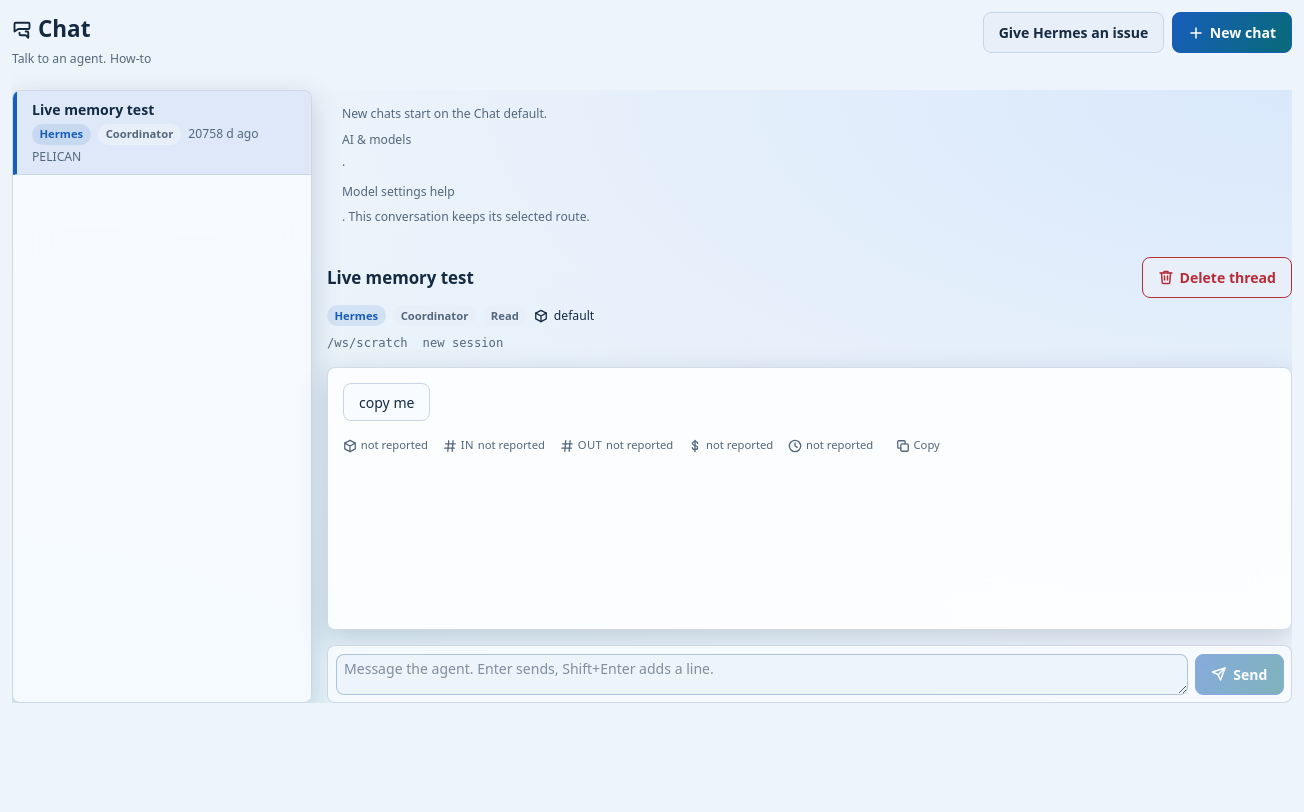
Test: Chat view › copies the message text when the clipboard exists
Click the button with aria-label "Copy message": (918,446) [888,425,947,466]
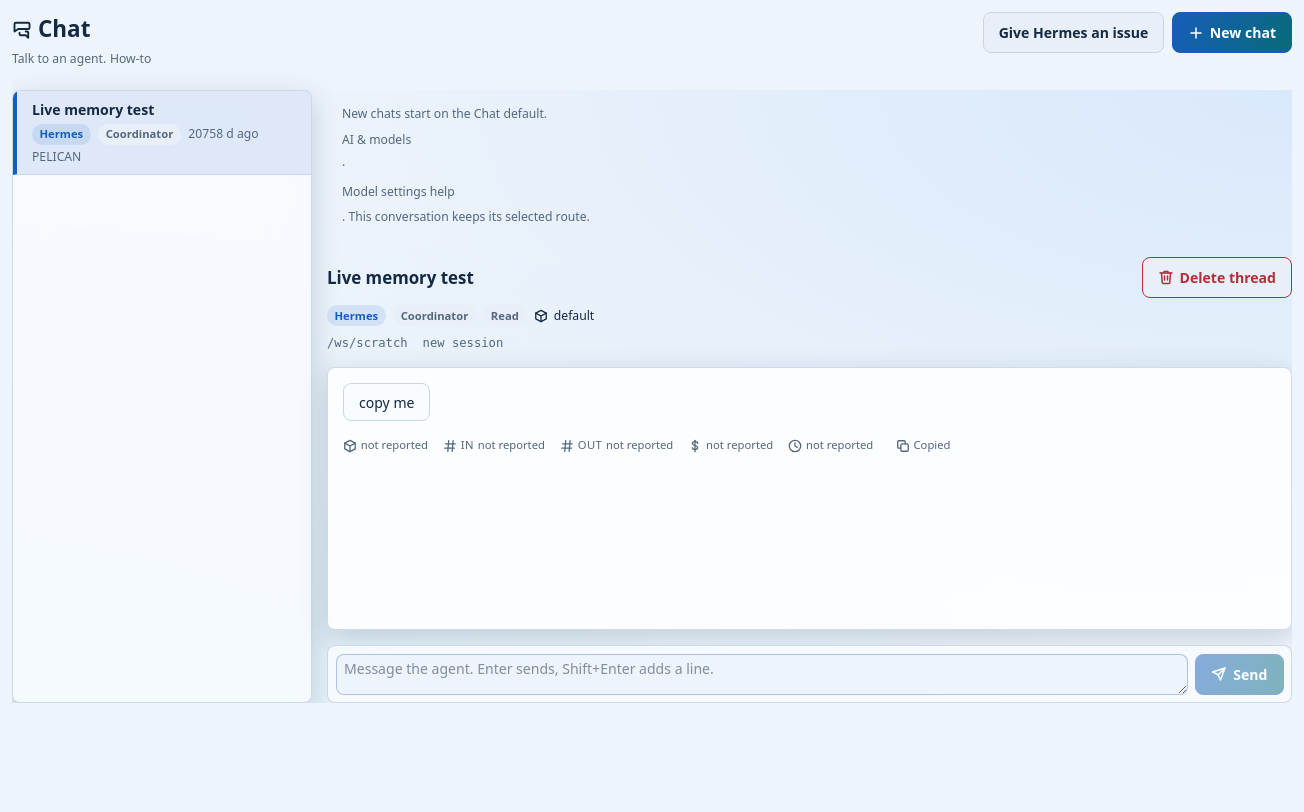
Check: the button with aria-label "Copy message" reads "Copied", box [888,425,958,466]
